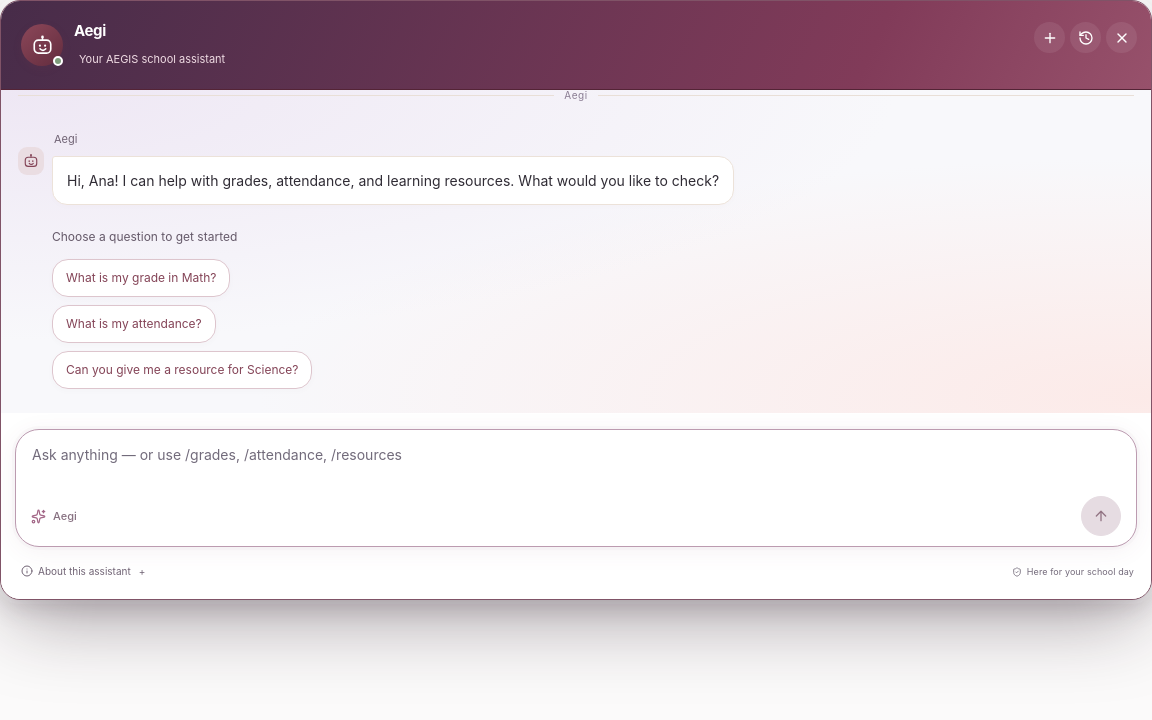
it: ChatbotPanel › sends a starter question and renders the returned record
(page scrolled)
Click the button "What is my grade in Math?" at (141, 278), box [52,259,230,297]
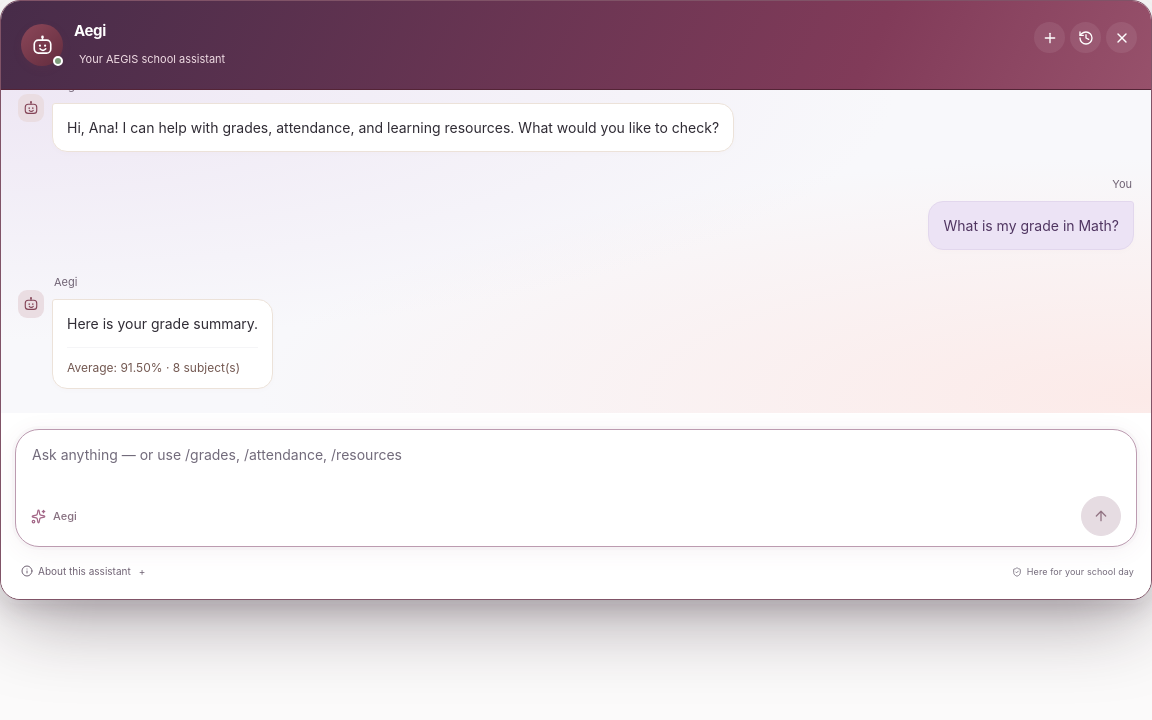
Expected: the text "Here is your grade summary." is shown, [67,312,258,335]
Expected: the text "Average: 91.50% · 8 subject(s)" is shown, [67,360,258,376]
